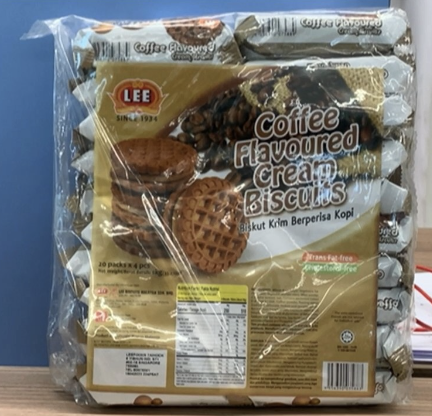cookies_1kg-1.99kg: (85, 49, 374, 394)
